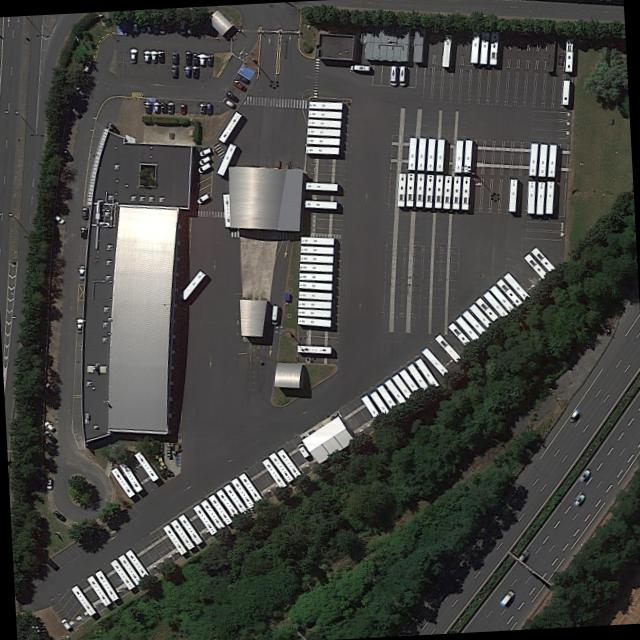large-vehicle: (494, 276, 524, 308), (488, 283, 517, 315), (433, 332, 462, 364), (420, 345, 449, 377), (502, 270, 531, 302), (397, 367, 424, 401), (405, 361, 431, 396), (481, 289, 510, 320), (474, 295, 503, 326), (413, 356, 439, 390), (178, 269, 206, 300), (468, 301, 496, 332), (390, 372, 416, 405), (108, 557, 134, 590), (116, 552, 142, 585), (69, 583, 95, 616), (132, 449, 158, 482), (93, 568, 118, 602), (461, 308, 488, 339), (374, 382, 400, 414), (168, 518, 194, 550), (176, 513, 202, 545), (382, 377, 408, 409), (359, 392, 384, 425), (228, 476, 253, 509), (191, 503, 216, 536), (199, 498, 224, 531), (109, 465, 134, 498), (454, 314, 481, 344), (447, 321, 474, 351), (522, 251, 549, 281), (529, 245, 556, 275), (267, 451, 293, 482), (261, 457, 286, 489), (161, 523, 186, 555), (206, 493, 231, 525), (123, 547, 148, 579), (217, 110, 242, 142), (85, 574, 110, 606), (117, 460, 141, 493), (275, 447, 300, 478), (368, 388, 392, 420), (237, 471, 261, 503), (214, 487, 239, 517), (222, 483, 246, 514), (215, 142, 236, 175), (460, 175, 472, 211), (440, 33, 452, 67), (478, 30, 490, 64), (296, 315, 330, 327), (424, 137, 436, 171), (461, 138, 473, 172), (306, 99, 342, 110), (563, 37, 574, 72), (306, 117, 341, 128), (306, 109, 341, 120), (305, 126, 340, 137), (304, 135, 339, 146), (304, 144, 339, 155), (221, 192, 232, 227), (468, 29, 479, 63), (488, 30, 499, 64), (297, 289, 331, 300), (537, 142, 548, 176), (441, 174, 452, 208), (527, 142, 538, 175), (297, 271, 332, 281), (297, 280, 332, 290), (296, 307, 331, 317), (295, 344, 330, 354), (423, 173, 433, 208), (404, 171, 414, 206), (414, 172, 424, 207), (433, 173, 443, 208), (451, 175, 461, 210), (302, 181, 337, 191), (416, 136, 426, 170), (434, 137, 444, 171), (453, 138, 463, 172), (546, 143, 556, 177), (395, 172, 405, 206), (544, 180, 554, 214), (298, 262, 332, 272), (298, 253, 332, 263), (299, 244, 333, 254), (507, 178, 517, 211), (534, 181, 544, 214), (300, 235, 333, 245), (296, 299, 331, 308), (407, 136, 416, 170), (526, 180, 535, 213), (303, 200, 336, 208), (560, 79, 570, 105)
small-vehicle: (498, 588, 515, 607), (42, 554, 59, 571), (295, 442, 310, 459), (42, 419, 58, 434), (195, 160, 212, 174), (269, 303, 280, 324), (388, 64, 399, 85), (42, 429, 57, 444), (51, 508, 66, 522), (225, 89, 240, 103), (219, 96, 235, 109), (195, 192, 211, 205), (396, 65, 406, 85), (349, 63, 371, 72), (197, 153, 212, 166), (573, 491, 586, 506), (231, 78, 246, 91), (578, 468, 591, 482), (566, 409, 579, 423), (59, 616, 71, 631), (52, 212, 65, 225), (517, 548, 529, 562), (197, 146, 211, 157), (237, 74, 250, 85), (128, 47, 136, 63), (184, 51, 193, 65), (79, 224, 87, 239), (156, 49, 164, 64), (170, 64, 178, 79), (198, 101, 206, 115), (206, 53, 214, 67), (143, 100, 151, 114), (76, 317, 83, 333), (198, 52, 205, 67), (77, 265, 85, 278), (167, 101, 174, 115), (191, 52, 198, 66), (143, 49, 150, 63), (150, 49, 157, 63), (171, 51, 178, 65), (81, 206, 88, 220), (183, 65, 191, 77), (45, 476, 52, 489), (191, 66, 198, 79), (153, 100, 159, 114), (179, 102, 186, 114), (205, 102, 212, 114), (160, 101, 166, 114)
